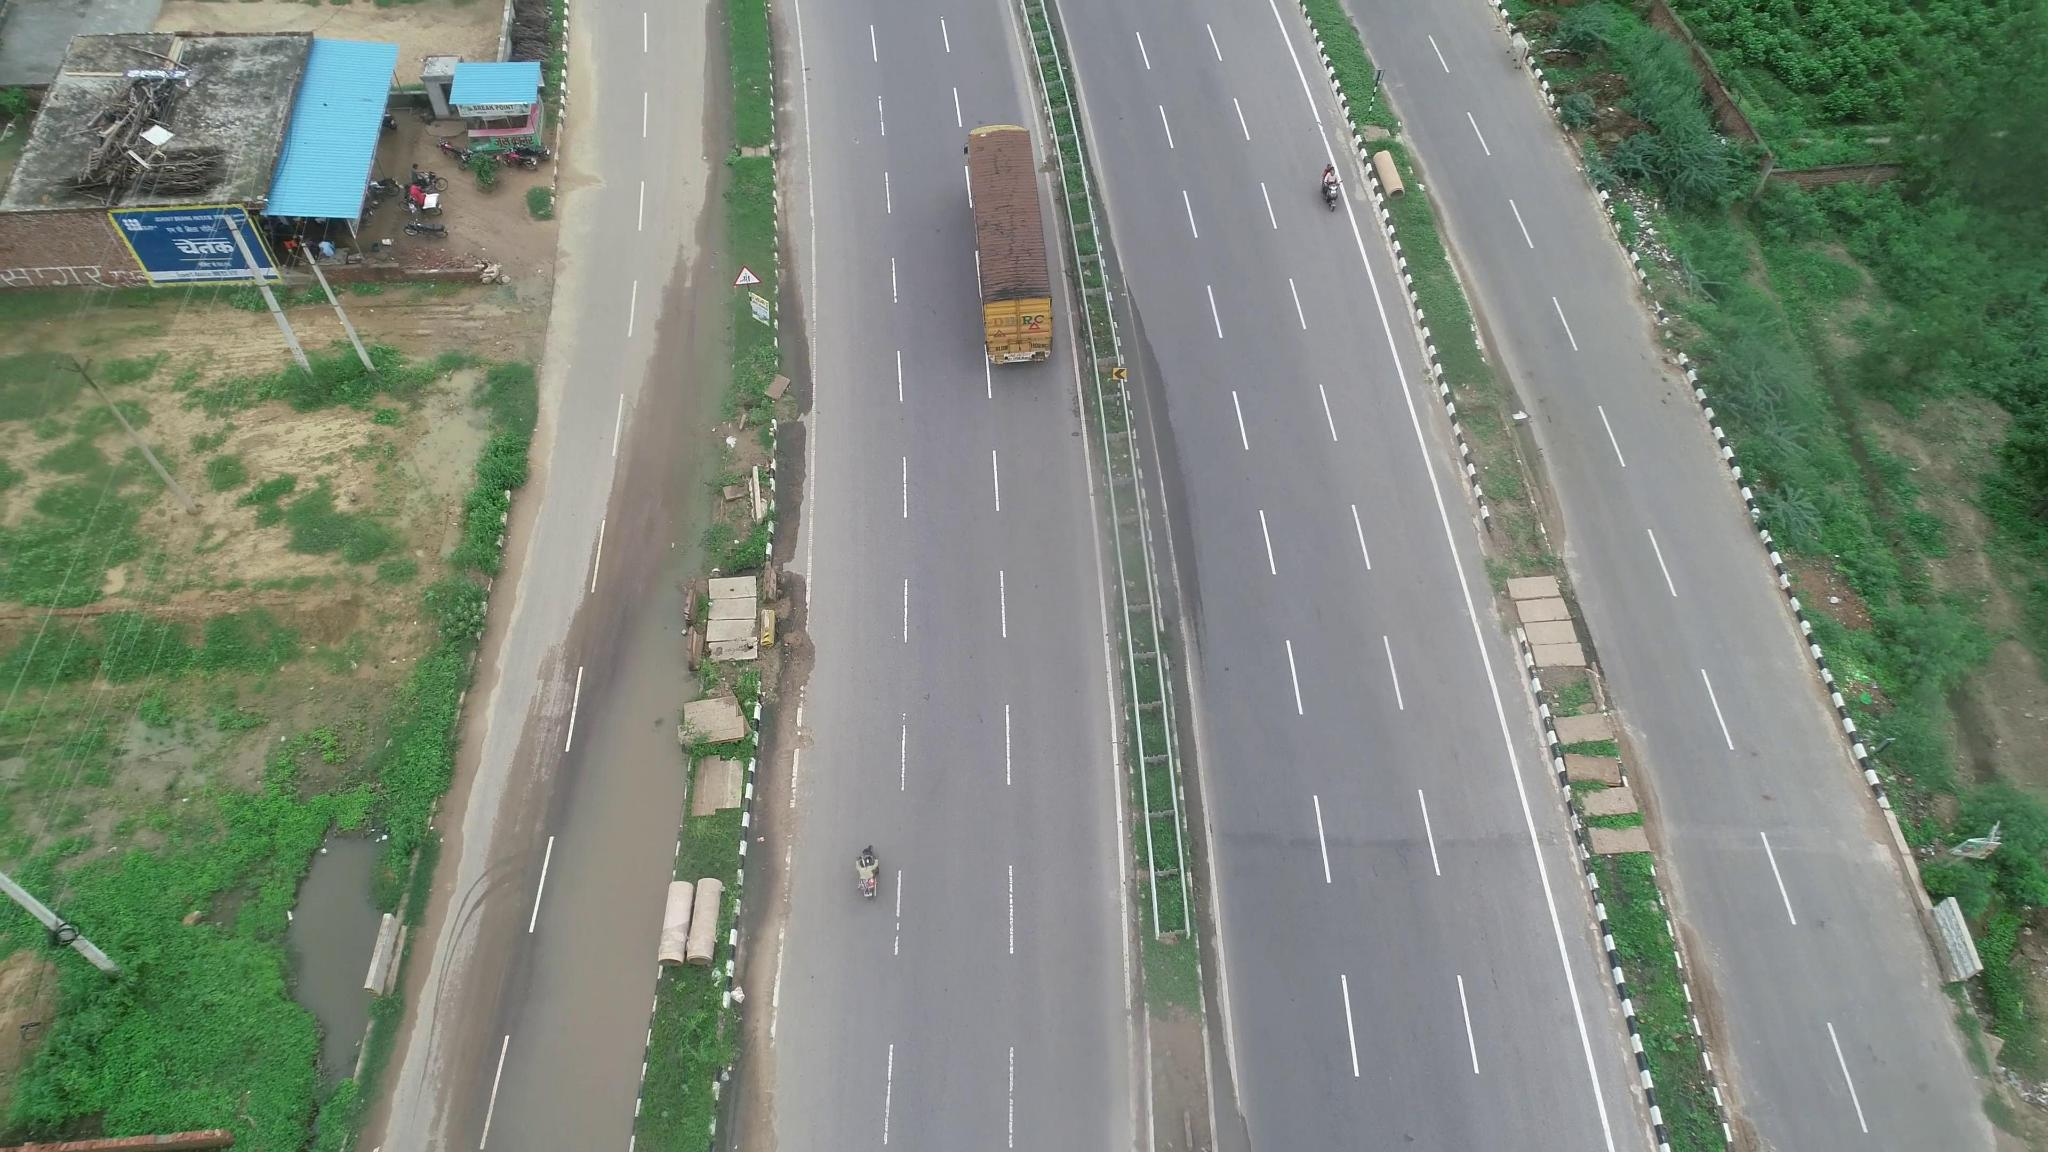Waterlogging: (487, 626, 692, 1142)
